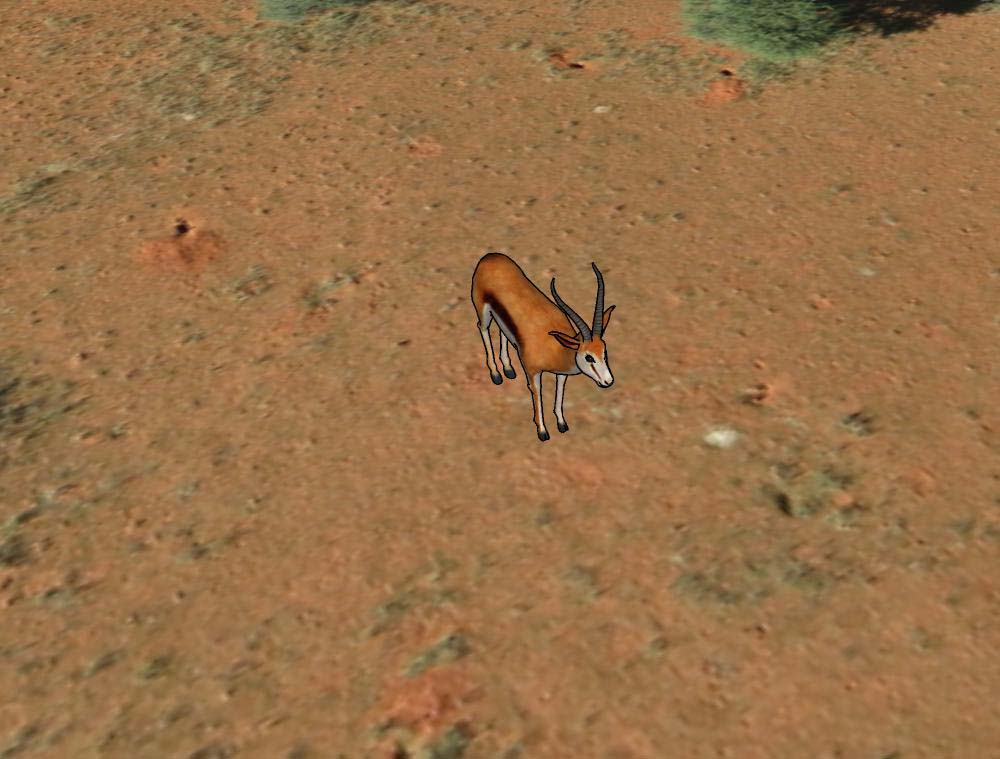springbok: (468, 243, 618, 444)
